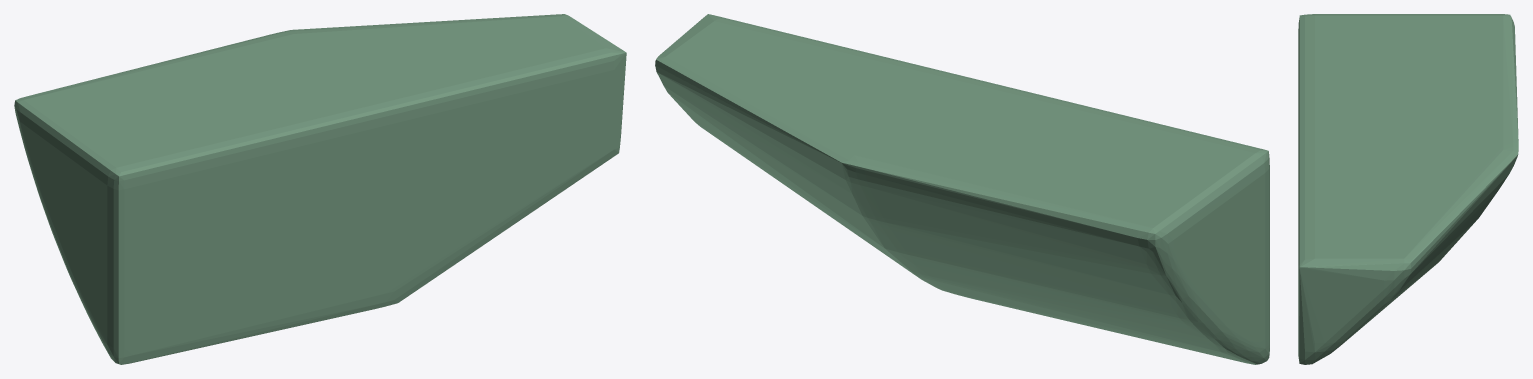
File: right_shoulder_pitch_link_part_0.obj
The picture shows the model from 3 angles, left to right: view 1: azimuth 30°, elevation 25°; view 2: azimuth 150°, elevation 25°; view 3: azimuth 270°, elevation 25°; orthographic projection. The views are drawn at different scales.
Size of the model in its own units: 0.0583 by 0.0215 by 0.0214.
